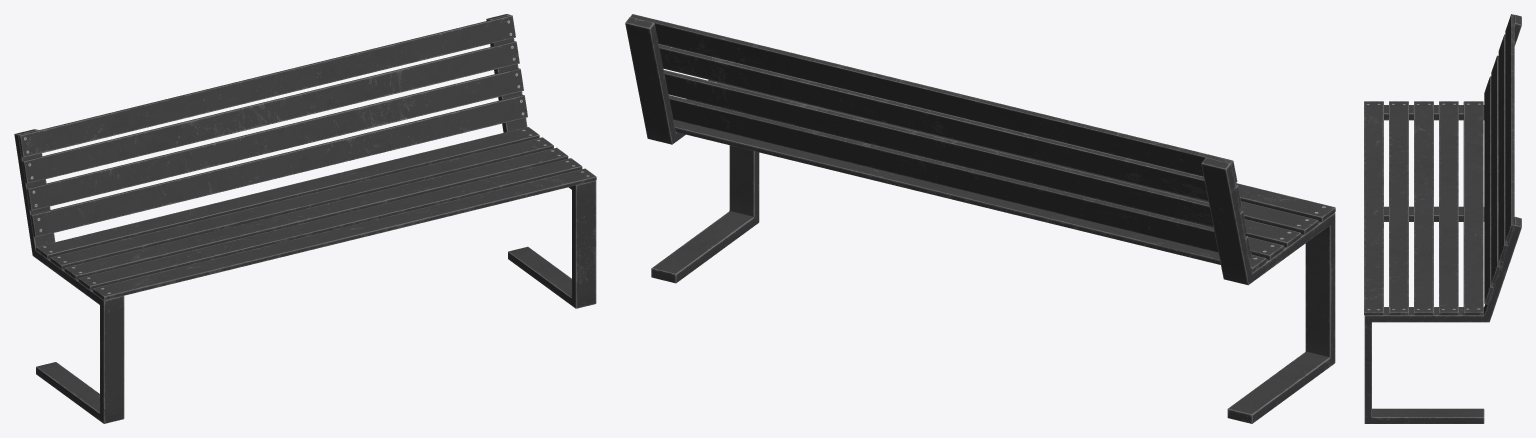
The model's file is metal bench.gltf.
The picture shows the model from 3 angles, left to right: view 1: azimuth 30°, elevation 25°; view 2: azimuth 150°, elevation 25°; view 3: azimuth 270°, elevation 25°; orthographic projection. The views are drawn at different scales.
Visible parts, largest first — view 1: bench; view 2: bench; view 3: bench.
Part boxes in pixels (x1,y1,x2,y2): bench: (14,14,596,423); bench: (625,14,1335,423); bench: (1364,14,1521,423).
Size of the model in its own units: 2 by 0.8823 by 0.6333.
1 material, 1 textured.
